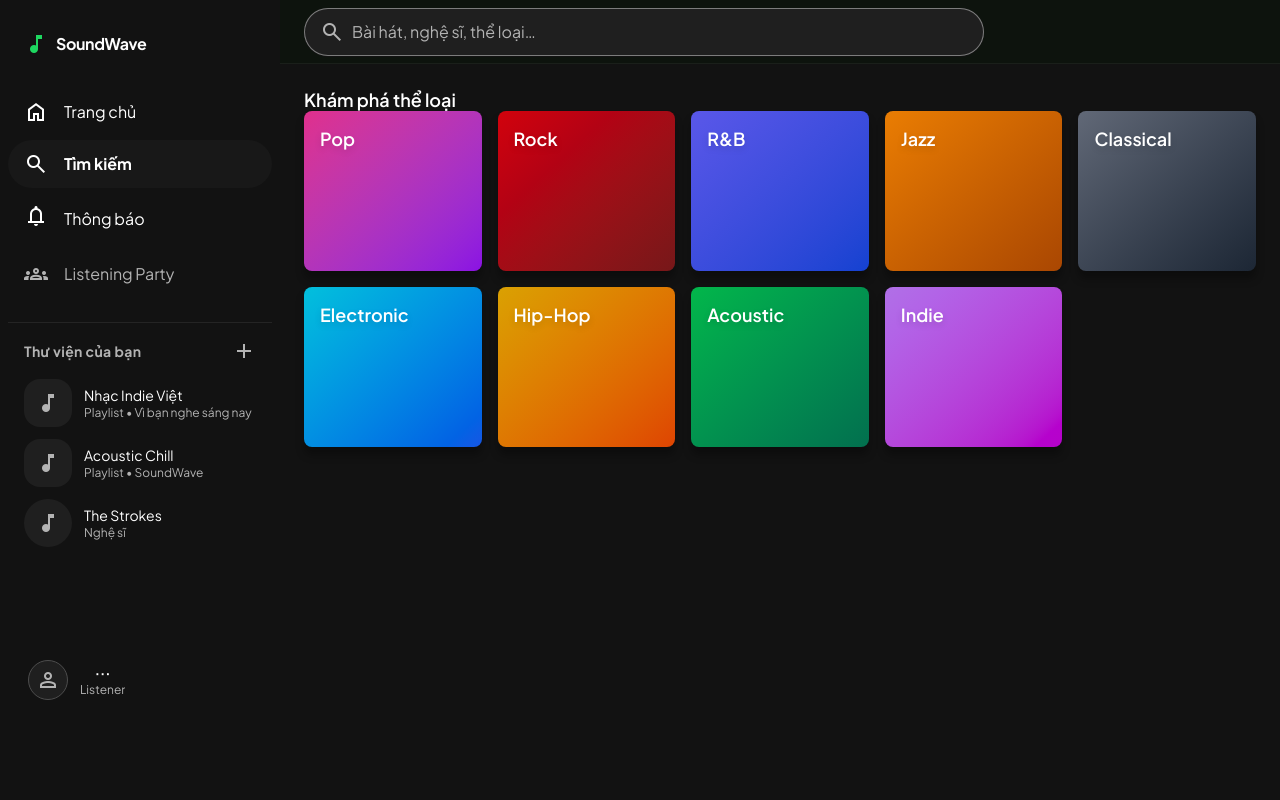
SearchPage — no results › shows no-results with query text when backend returns empty
Type "xyznotfound" into the field named "tìm kiếm".
click(644, 32); type("xyznotfound")  # box [304, 8, 984, 56]
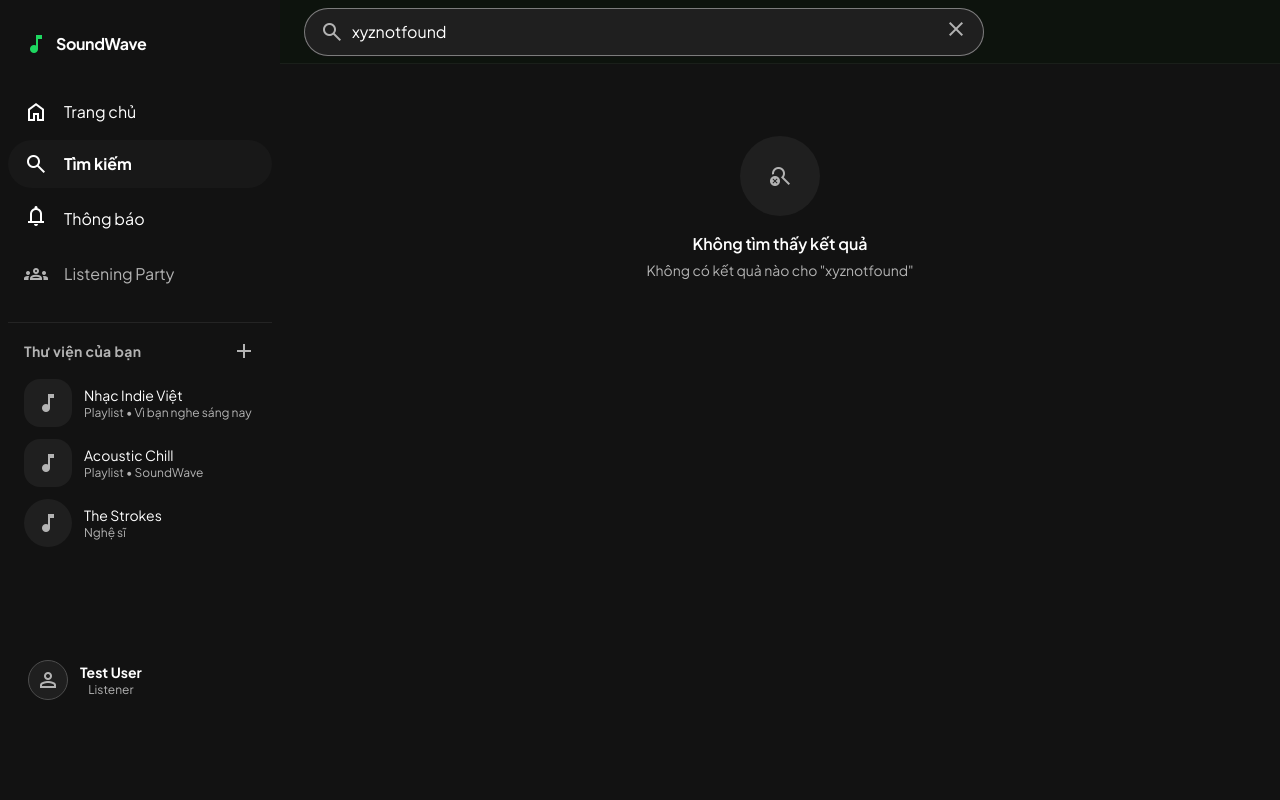
Check: the element with test id "no-results" is shown, box [646, 136, 914, 279]
Check: the element with test id "no-results" shows "xyznotfound", box [646, 261, 914, 279]
